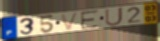2: (127, 7, 143, 24)
3: (18, 17, 37, 37)
5: (39, 14, 55, 35)
E: (80, 9, 99, 30)
U: (105, 6, 125, 27)
V: (59, 11, 80, 32)
